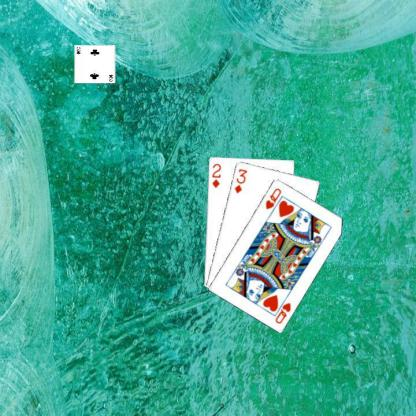2D: (209, 161, 222, 189)
3D: (232, 166, 248, 195)
QH: (271, 294, 292, 325), (263, 186, 282, 210)
